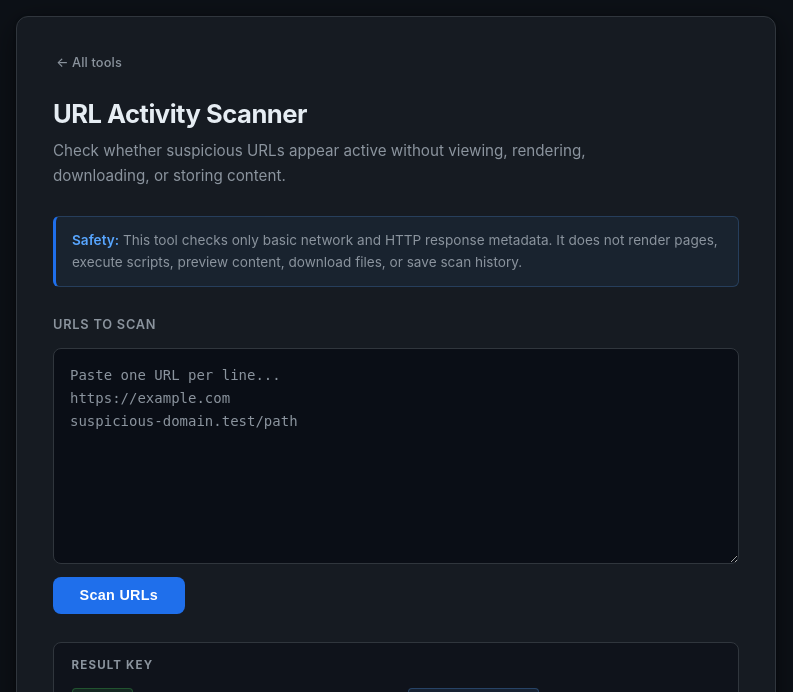
Test case: 5. Loading state › disables the scan button while loading (test 10)
In the text box: (396, 456) [53,348,739,564], type "https://example.com"
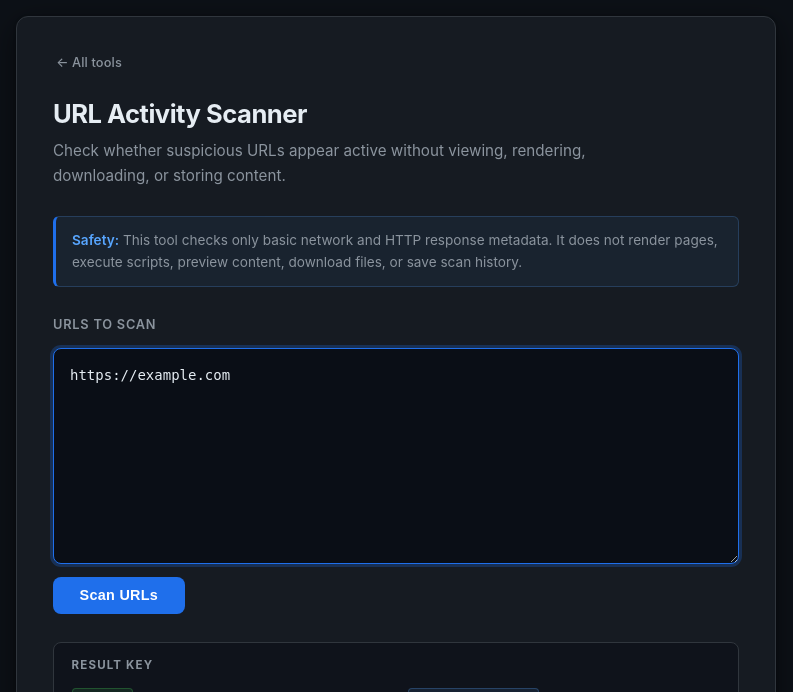
Click the button "Scan URLs": (119, 595) [53,577,185,614]
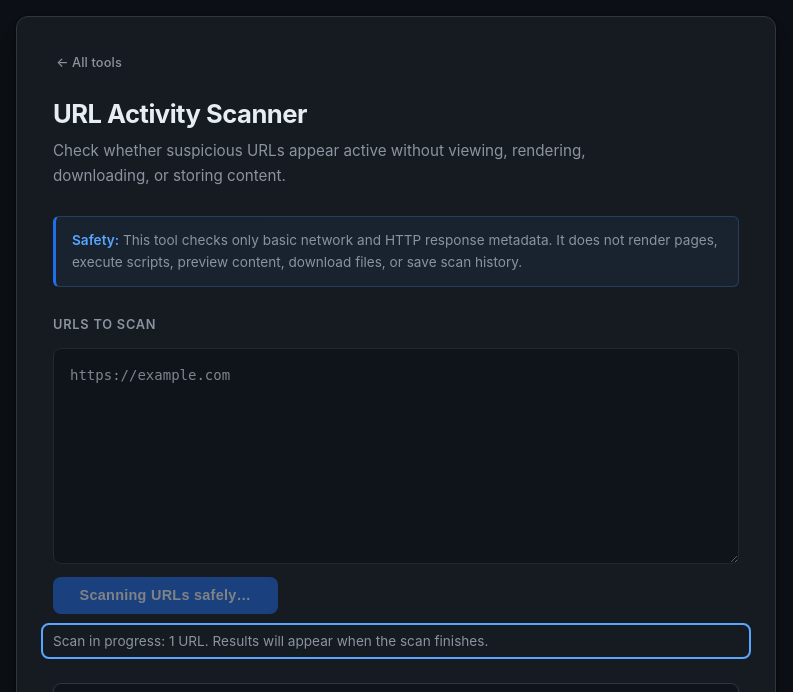
Expected: the button is disabled, [53,577,278,614]
